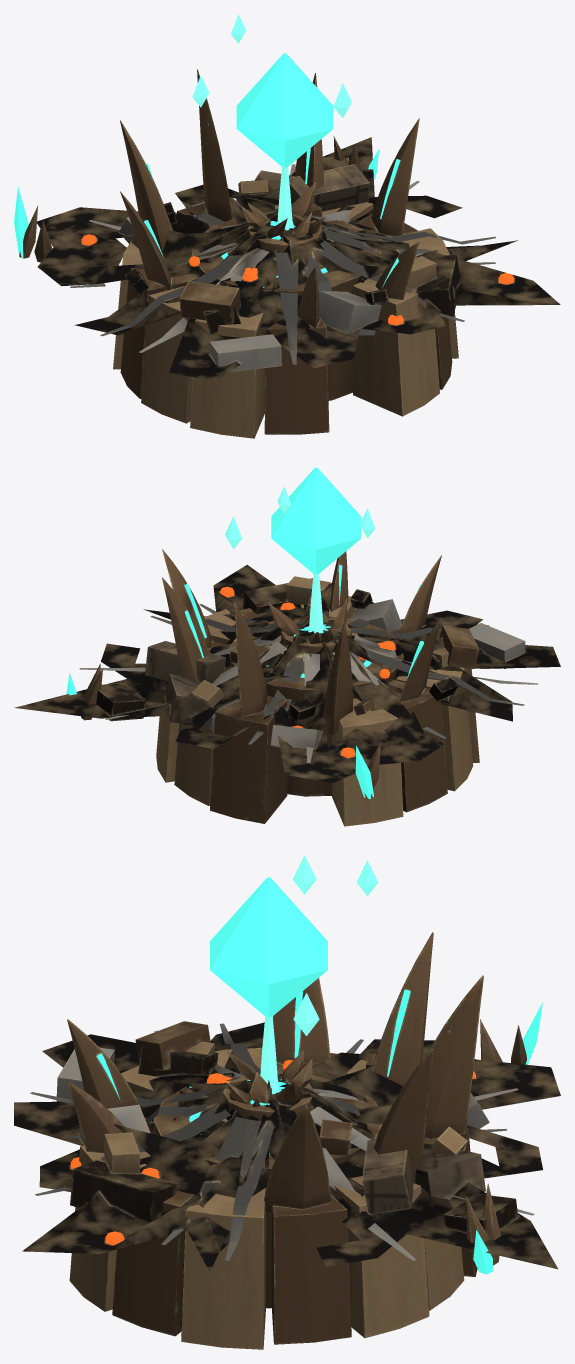
Rendered from prism-reactor-nahara.glb.
3 views of the same model, one above another, from view 1: azimuth 30°, elevation 25°; view 2: azimuth 150°, elevation 25°; view 3: azimuth 270°, elevation 25° (orthographic). The views are drawn at different scales.
Visible parts, largest first — view 1: site_prism_reactor_nahara_ruin, site_prism_reactor_nahara_body, site_prism_reactor_nahara_core; view 2: site_prism_reactor_nahara_ruin, site_prism_reactor_nahara_body, site_prism_reactor_nahara_core; view 3: site_prism_reactor_nahara_body, site_prism_reactor_nahara_ruin, site_prism_reactor_nahara_core.
Boxes of the visible parts, x1,y1,x2,y2 form: site_prism_reactor_nahara_ruin: [37, 137, 560, 380]; site_prism_reactor_nahara_body: [14, 69, 458, 438]; site_prism_reactor_nahara_core: [192, 14, 351, 167]; site_prism_reactor_nahara_ruin: [14, 565, 560, 782]; site_prism_reactor_nahara_body: [66, 549, 479, 826]; site_prism_reactor_nahara_core: [225, 467, 375, 574]; site_prism_reactor_nahara_body: [67, 932, 542, 1349]; site_prism_reactor_nahara_ruin: [14, 1021, 560, 1271]; site_prism_reactor_nahara_core: [210, 855, 378, 1035].
Size of the model in its own units: 5.41 by 3.97 by 4.98.
Materials: 6 (1 with a texture image).
